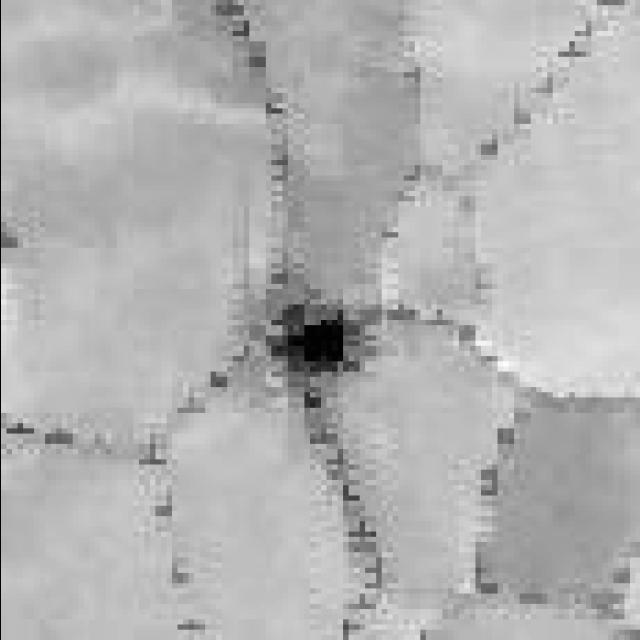good_void: (260, 294, 371, 385)
